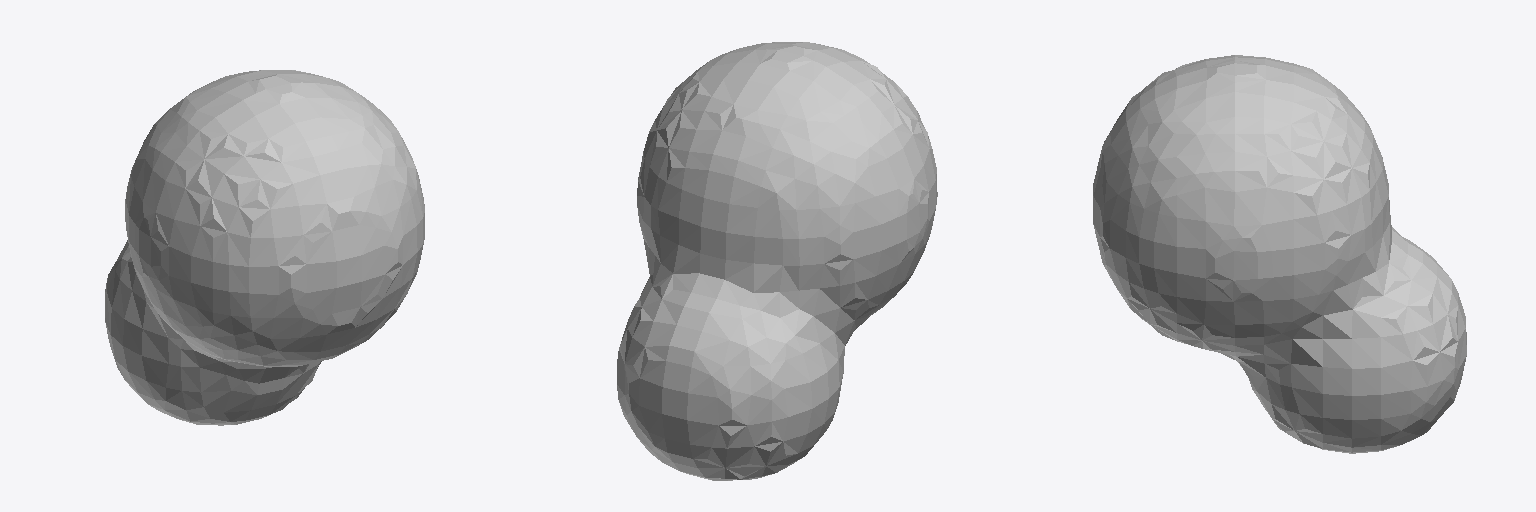
The model's file is smoke_msh.obj.
3 renders of one model, left to right at view 1: azimuth 30°, elevation 25°; view 2: azimuth 150°, elevation 25°; view 3: azimuth 270°, elevation 25°, orthographic.
Visible parts, largest first — view 1: msh_smoke_Cube.001; view 2: msh_smoke_Cube.001; view 3: msh_smoke_Cube.001.
Boxes of the visible parts, box(x1,y1,x2,y2) form: msh_smoke_Cube.001: box(105, 70, 424, 425); msh_smoke_Cube.001: box(617, 42, 937, 480); msh_smoke_Cube.001: box(1093, 55, 1466, 453).
Bounding box in the file's own units: 2.5 × 3.48 × 3.16.